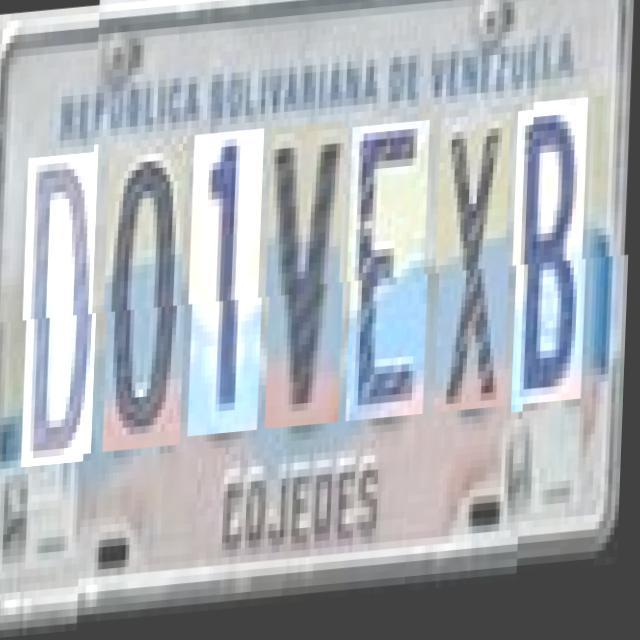1: (191, 134, 269, 441)
B: (515, 116, 593, 424)
D: (26, 147, 104, 460)
E: (349, 128, 435, 428)
O: (106, 140, 192, 454)
V: (268, 128, 350, 435)
X: (438, 122, 516, 422)
